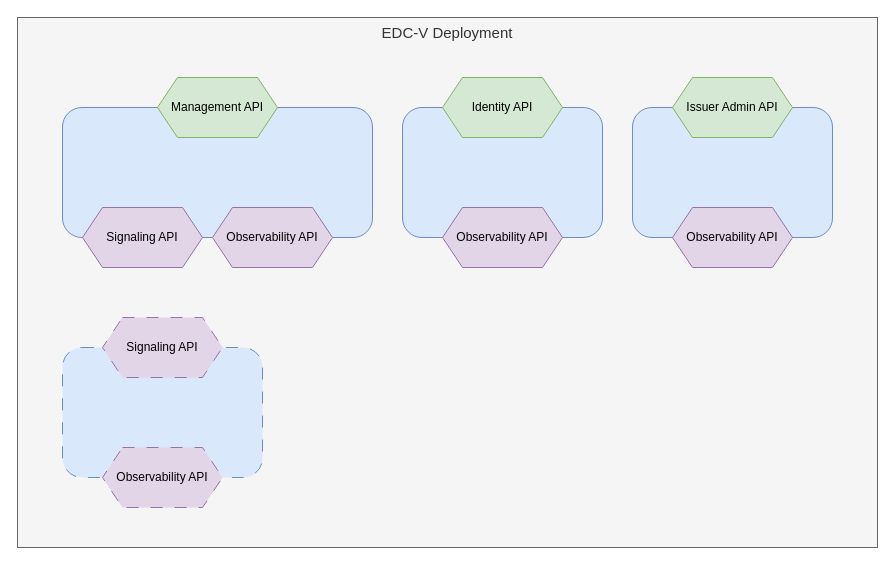
Image size: 895x565. Some labels were removed from this diagram. Each missing label, with the box of its shape:
control plane: (62, 106, 372, 238)
data plane: (62, 346, 262, 478)
identity-hub: (402, 106, 602, 238)
issuer service: (632, 106, 832, 238)
